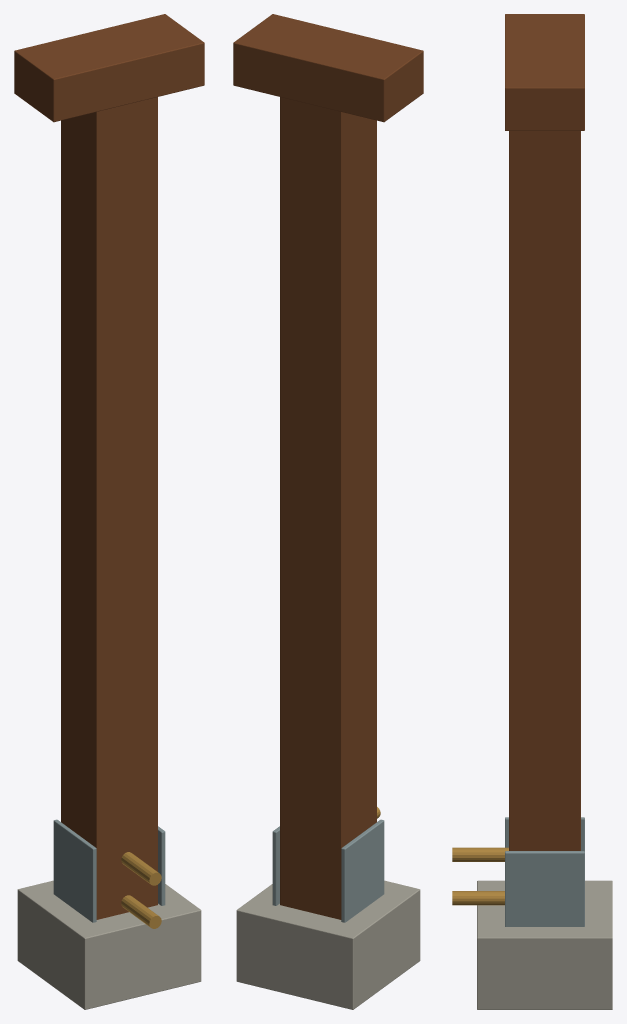
The model's file is kampung-stilt-column.glb.
The picture shows the model from 3 angles, left to right: view 1: azimuth 30°, elevation 25°; view 2: azimuth 150°, elevation 25°; view 3: azimuth 270°, elevation 25°; orthographic projection.
Parts seen in each view (by area): view 1: Timber_Post, Footing, Saddle, Bracket.001, Bolt.001, Bolt, Bracket; view 2: Timber_Post, Footing, Saddle, Bracket.001, Bracket; view 3: Timber_Post, Footing, Saddle, Bracket, Bolt, Bolt.001.
Part boxes in pixels (left/top/right/bottom): Timber_Post: left=61, top=97, right=157, bottom=919; Footing: left=17, top=880, right=201, bottom=1009; Saddle: left=14, top=14, right=204, bottom=122; Bracket.001: left=53, top=819, right=96, bottom=922; Bolt.001: left=121, top=895, right=161, bottom=928; Bolt: left=121, top=852, right=161, bottom=885; Bracket: left=158, top=826, right=165, bottom=905; Timber_Post: left=280, top=97, right=376, bottom=919; Footing: left=236, top=880, right=420, bottom=1009; Saddle: left=233, top=14, right=423, bottom=122; Bracket.001: left=341, top=819, right=384, bottom=922; Bracket: left=272, top=826, right=279, bottom=905; Timber_Post: left=509, top=131, right=580, bottom=850; Footing: left=477, top=880, right=612, bottom=1009; Saddle: left=505, top=14, right=584, bottom=130; Bracket: left=505, top=851, right=584, bottom=926; Bolt: left=452, top=847, right=508, bottom=861; Bolt.001: left=452, top=891, right=504, bottom=905.
Bounding box in the file's own units: 0.44 × 2.57 × 0.402.
